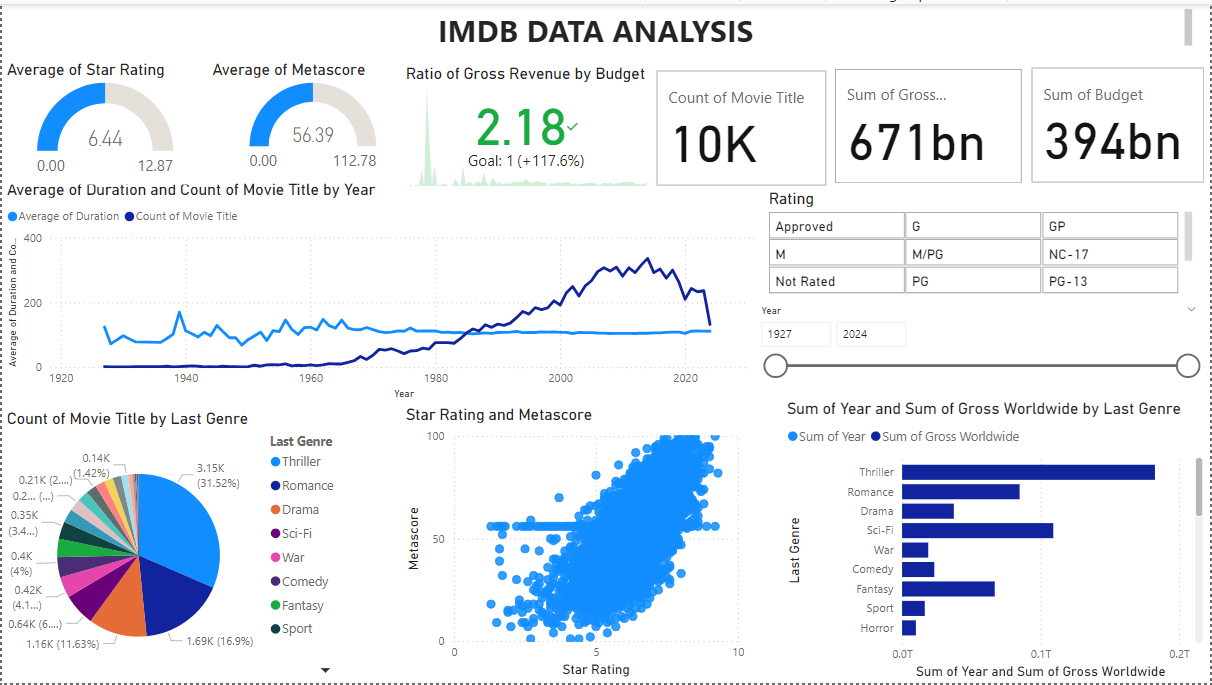

The page's visual inventory and layout, read from the dashboard file:
{"tool":"powerbi","page":{"name":"Page 1","canvas":[1280,720],"ordinal":0},"visuals":[{"type":"lineChart","fields":{"Category":["cleaned_data_imdb.Year"],"Y":["Avg(cleaned_data_imdb.Duration)","CountNonNull(cleaned_data_imdb.Movie Title)"]},"box":[0,186.9,808.2,237.7],"z":0},{"type":"cardVisual","fields":{"Data":["CountNonNull(cleaned_data_imdb.Movie Title)"]},"box":[688.5,65.6,190.2,132.8],"z":1000},{"type":"pieChart","fields":{"Category":["cleaned_data_imdb.Last Genre"],"Y":["CountNonNull(cleaned_data_imdb.Movie Title)"]},"box":[0,429.5,404.9,290.2],"z":2000},{"type":"cardVisual","title":"GROSS REVENUE","fields":{"Data":["Sum(cleaned_data_imdb.Gross Worldwide)"]},"box":[878.7,63.9,208.2,131.1],"z":3000},{"type":"scatterChart","fields":{"X":["cleaned_data_imdb.Star Rating"],"Y":["cleaned_data_imdb.Metascore"]},"box":[423,424.6,368.9,293.4],"z":4000},{"type":"advancedSlicerVisual","fields":{"Values":["cleaned_data_imdb.Rating"]},"box":[808.2,195.1,459,118],"z":5000},{"type":"gauge","fields":{"Y":["Avg(cleaned_data_imdb.Star Rating)"]},"box":[0,59,218,132.8],"z":6000},{"type":"gauge","fields":{"Y":["Avg(cleaned_data_imdb.Metascore)"]},"box":[218,59,223,127.9],"z":7000},{"type":"slicer","fields":{"Values":["cleaned_data_imdb.Year"]},"box":[791.8,313.1,486.9,93.4],"z":8000},{"type":"kpi","title":"Ratio of Gross Revenue by Budget","fields":{"TrendLine":["cleaned_data_imdb.Year"],"Indicator":["cleaned_data_imdb.Revenue-to-Budget Ratio"],"Goal":["cleaned_data_imdb.Target ratio"]},"box":[423,63.9,265.6,134.4],"z":9000},{"type":"barChart","fields":{"Category":["cleaned_data_imdb.Last Genre"],"Y":["Sum(cleaned_data_imdb.Year)","Sum(cleaned_data_imdb.Gross Worldwide)"]},"box":[827.9,418,450.8,301.6],"z":10000},{"type":"cardVisual","fields":{"Data":["Sum(cleaned_data_imdb.Budget)"]},"box":[1086.9,62.3,193.4,132.8],"z":11000},{"type":"textbox","box":[0,0,1267.2,50.8],"z":12000}]}

Visuals, with their boxes in screenshot pixels (x1, y1, x2, y2), scaled from the page's 1280x720 canvas onto the 1212x685 screenshot:
lineChart - cleaned_data_imdb.Year x Avg(cleaned_data_imdb.Duration): 0,178,765,404
cardVisual - CountNonNull(cleaned_data_imdb.Movie Title): 652,62,832,189
pieChart - cleaned_data_imdb.Last Genre x CountNonNull(cleaned_data_imdb.Movie Title): 0,409,383,684
"GROSS REVENUE" cardVisual: 832,61,1029,186
scatterChart - cleaned_data_imdb.Star Rating x cleaned_data_imdb.Metascore: 401,404,750,683
advancedSlicerVisual - cleaned_data_imdb.Rating: 765,186,1200,298
gauge - Avg(cleaned_data_imdb.Star Rating): 0,56,206,182
gauge - Avg(cleaned_data_imdb.Metascore): 206,56,418,178
slicer - cleaned_data_imdb.Year: 750,298,1211,387
"Ratio of Gross Revenue by Budget" kpi: 401,61,652,189
barChart - cleaned_data_imdb.Last Genre x Sum(cleaned_data_imdb.Year): 784,398,1211,684
cardVisual - Sum(cleaned_data_imdb.Budget): 1029,59,1211,186
textbox: 0,0,1200,48
